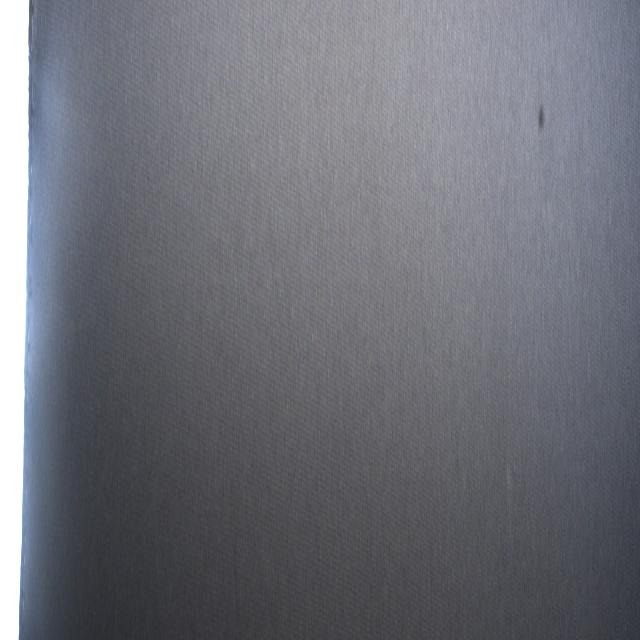crease: (229, 531, 245, 634)
whiteDefect: (502, 451, 519, 568)
